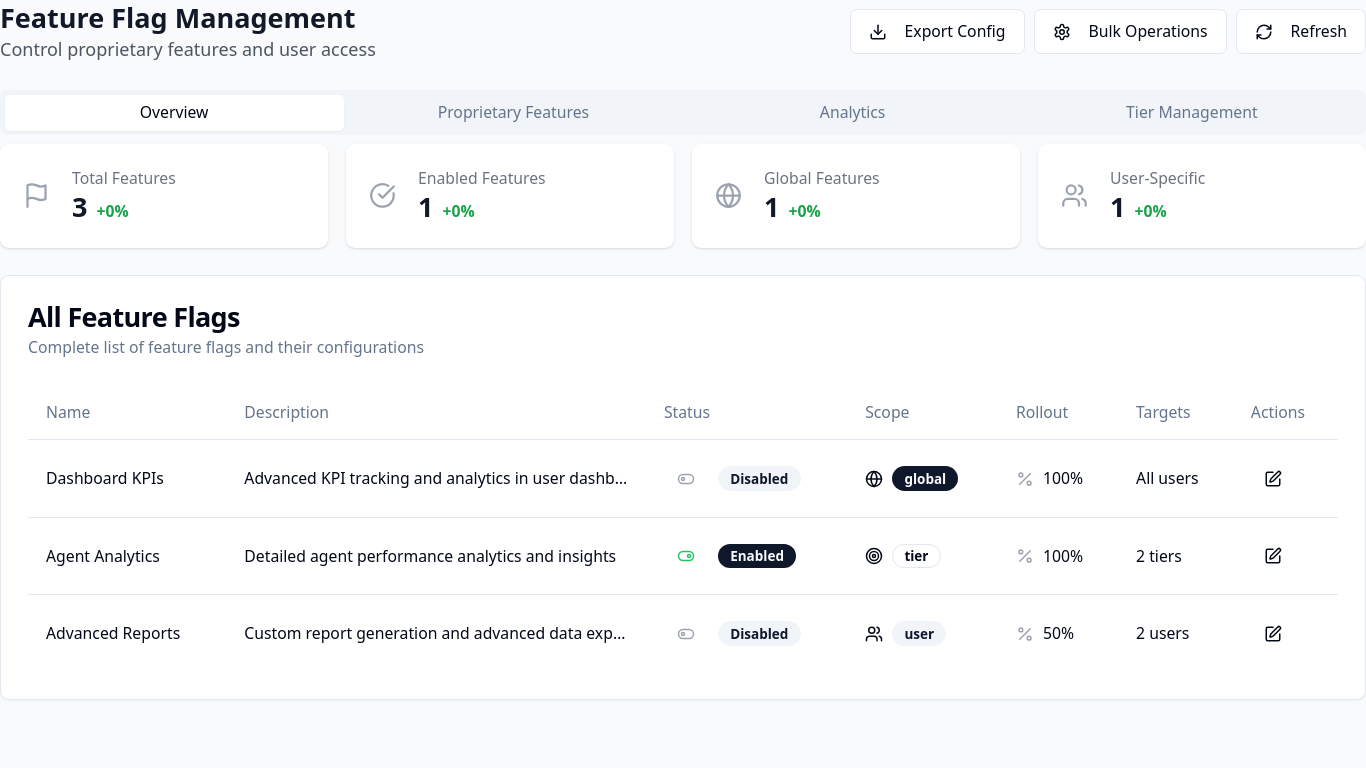
Scenario: FeatureFlagManager › opens bulk operations modal when Bulk Operations button is clicked
Click the button "Bulk Operations".
click(1130, 32)  # box [1034,9,1226,54]
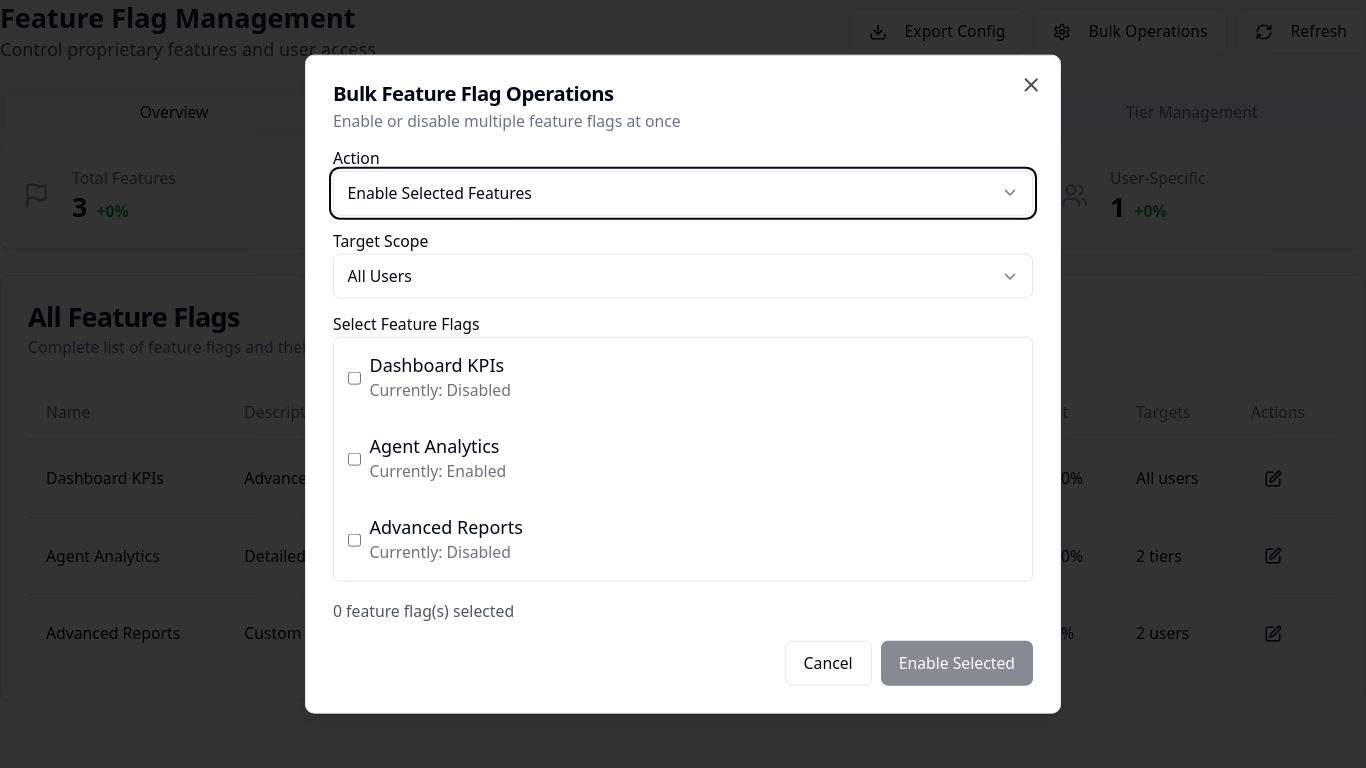
Now the heading "Bulk Feature Flag Operations" is shown, box [333,79,614,107]
Now the text "Enable or disable multiple feature flags at once" is shown, box [333,110,681,132]
